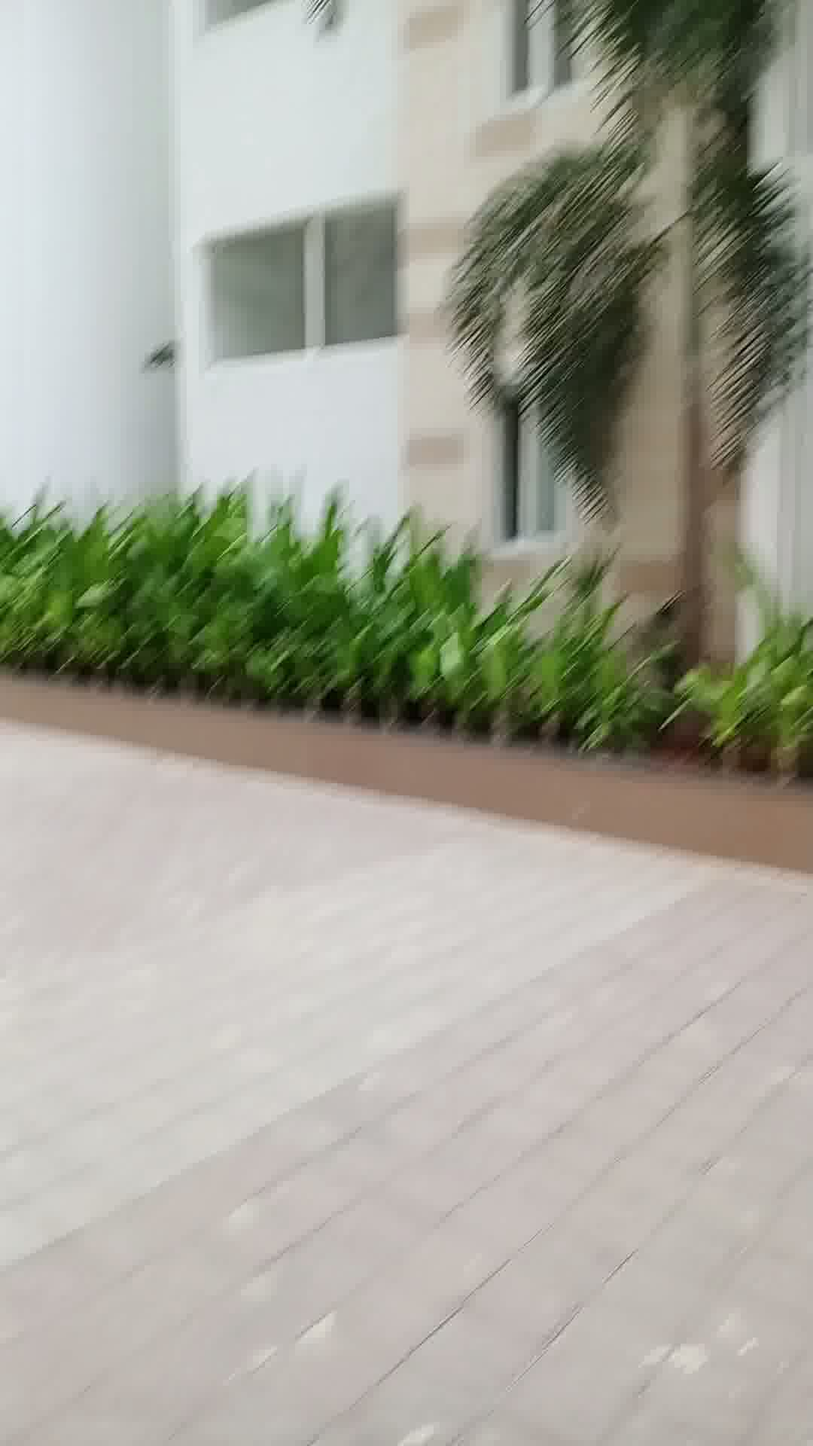tree: (481, 6, 811, 598)
